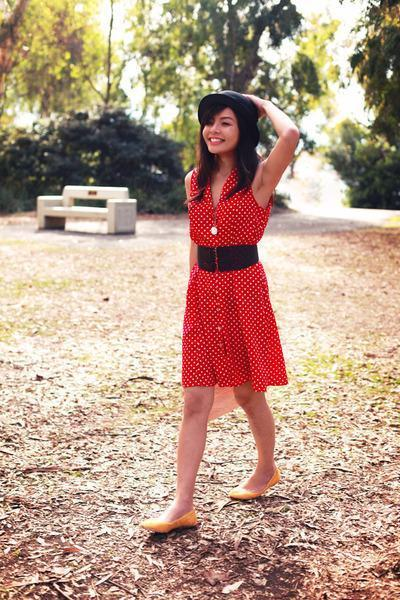dress: (182, 180, 289, 416)
hat: (198, 94, 263, 131)
shoe: (156, 511, 202, 531)
